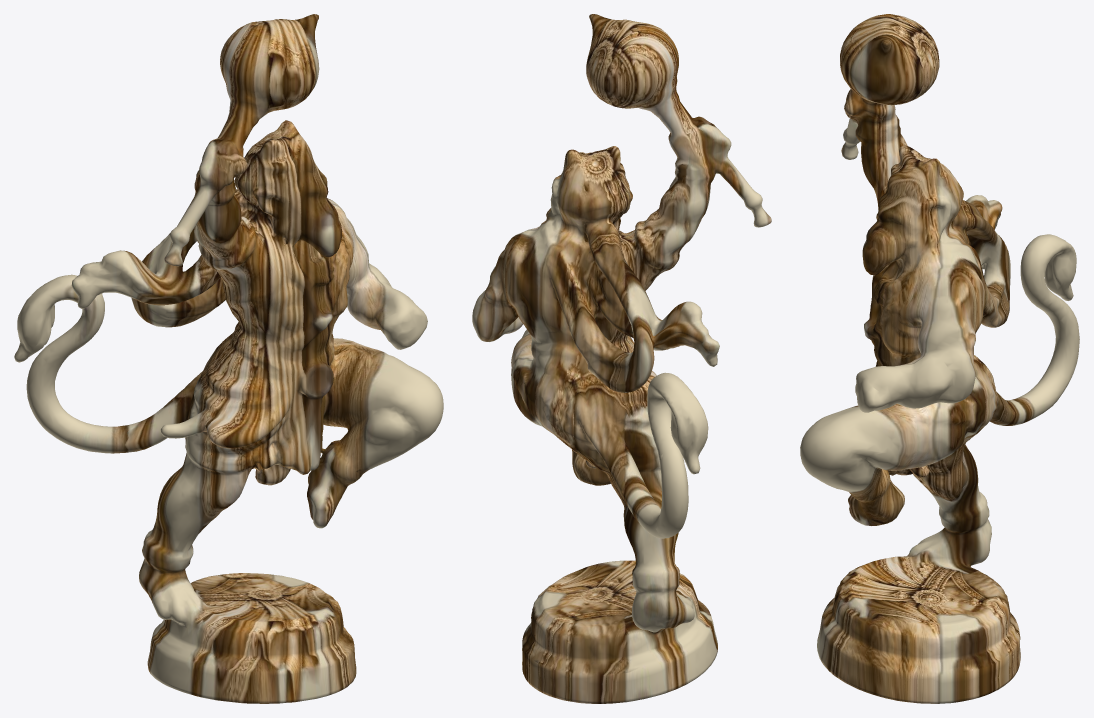
File: ashva.glb
3 views of the same model, side by side, from view 1: azimuth 30°, elevation 25°; view 2: azimuth 150°, elevation 25°; view 3: azimuth 270°, elevation 25° (orthographic). The views are drawn at different scales.
Visible parts, largest first — view 1: geometry_0; view 2: geometry_0; view 3: geometry_0.
Boxes of the visible parts, x1,y1,x2,y2 form: geometry_0: [14, 14, 443, 703]; geometry_0: [472, 14, 771, 703]; geometry_0: [800, 14, 1079, 703].
Bounding box in the file's own units: 0.9766 × 2 × 0.7831.
1 material, 1 textured.
